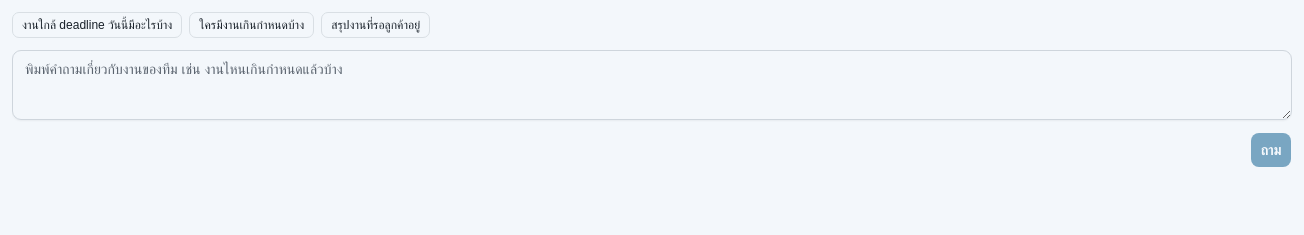
QaClient › shows the server error when the answer fails
The image size is (1304, 235).
In the text box labelled "คำถามเกี่ยวกับงาน": (652, 85) [12,50,1292,120], type "อะไรดี"
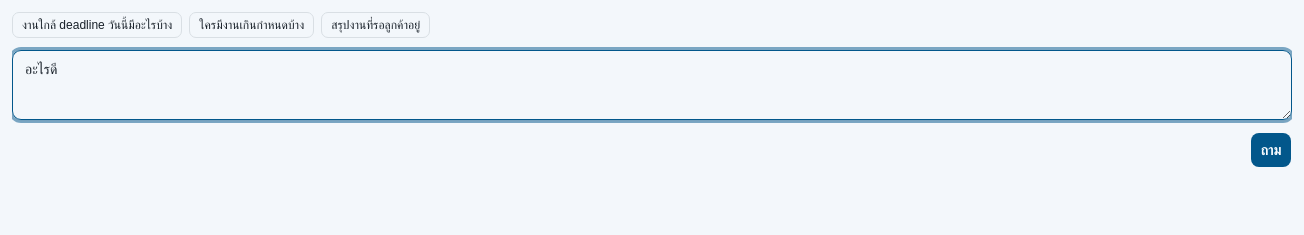
Click the button "ถาม": (1271, 150) [1250,132,1292,168]
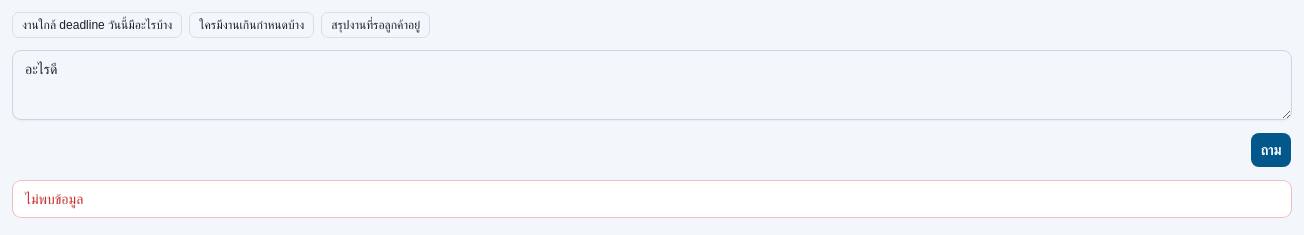
Check: the message reads "ไม่พบข้อมูล", box [25,191,83,207]
